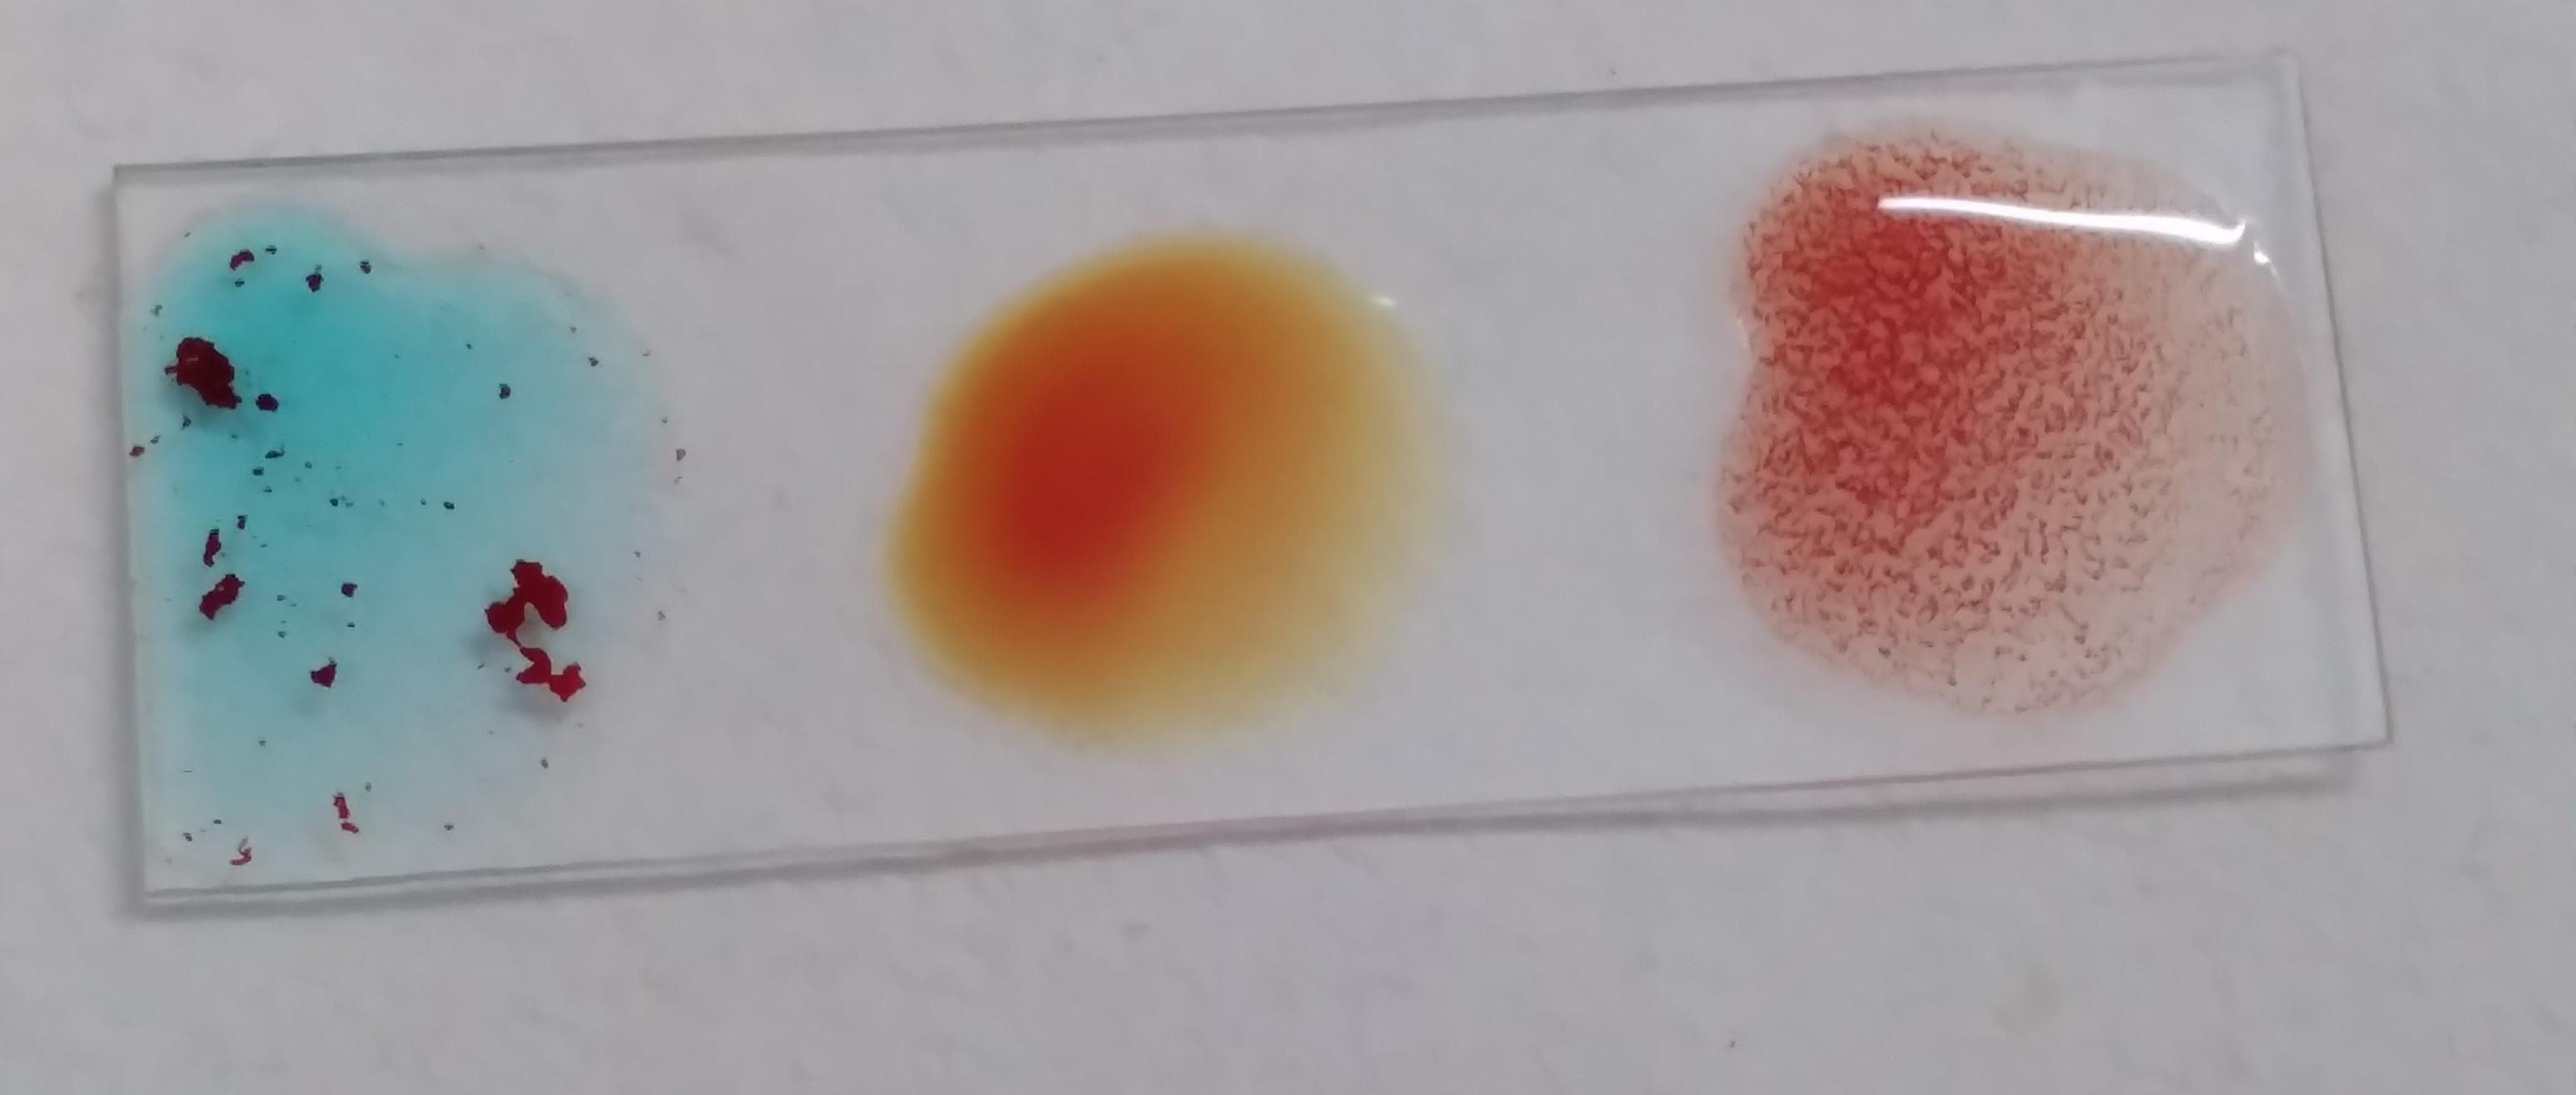A: (131, 217, 629, 819)
D: (1727, 131, 2272, 698)
